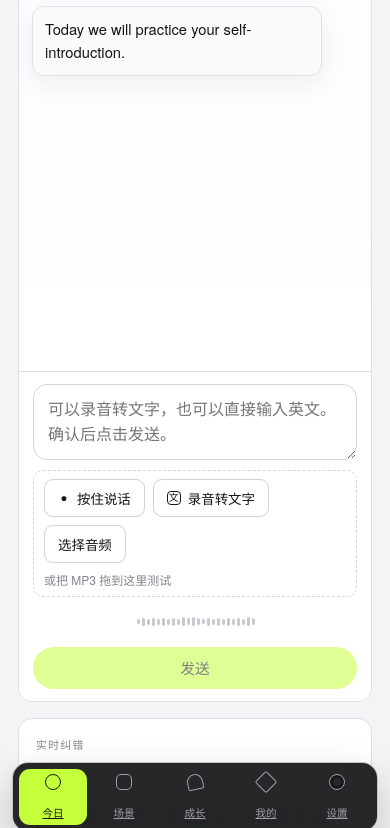
Test: shows agent completion suggestion after a turn and allows continuing
This screenshot has width=390, height=828.
(page scrolled)
Type "I want to book a room." into the text box named "输入你的回答" at [195, 422], box [33,384,357,460]
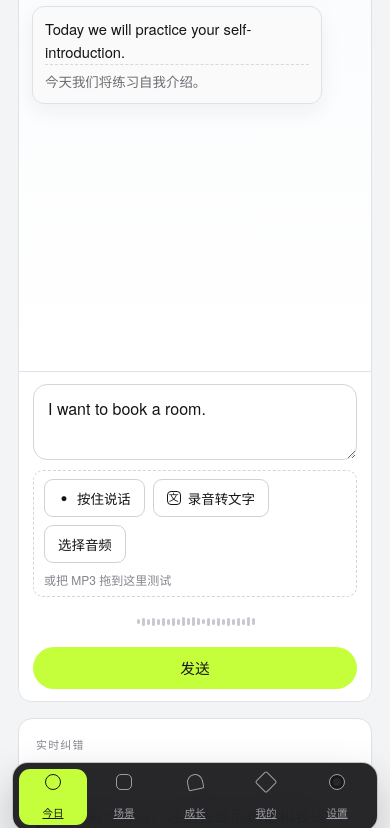
Click the button "发送" at [195, 668], box [33,647,357,689]
(page scrolled)
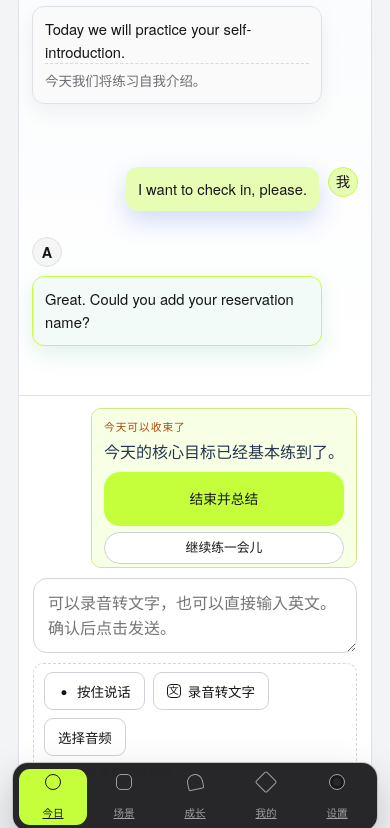
Now the text "今天可以收束了" is shown, box [104,419,186,434]
Now the text "今天的核心目标已经基本练到了。" is shown, box [104,440,344,464]
Click the button "继续练一会儿" at [224, 548], box [104,532,344,564]
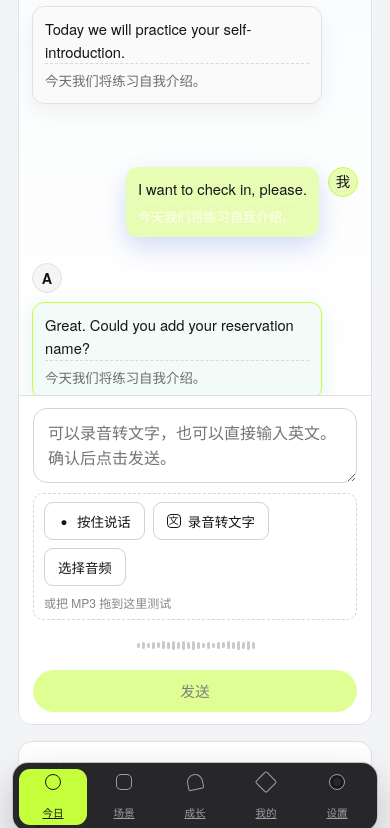
Now the text "今天可以收束了" is gone
